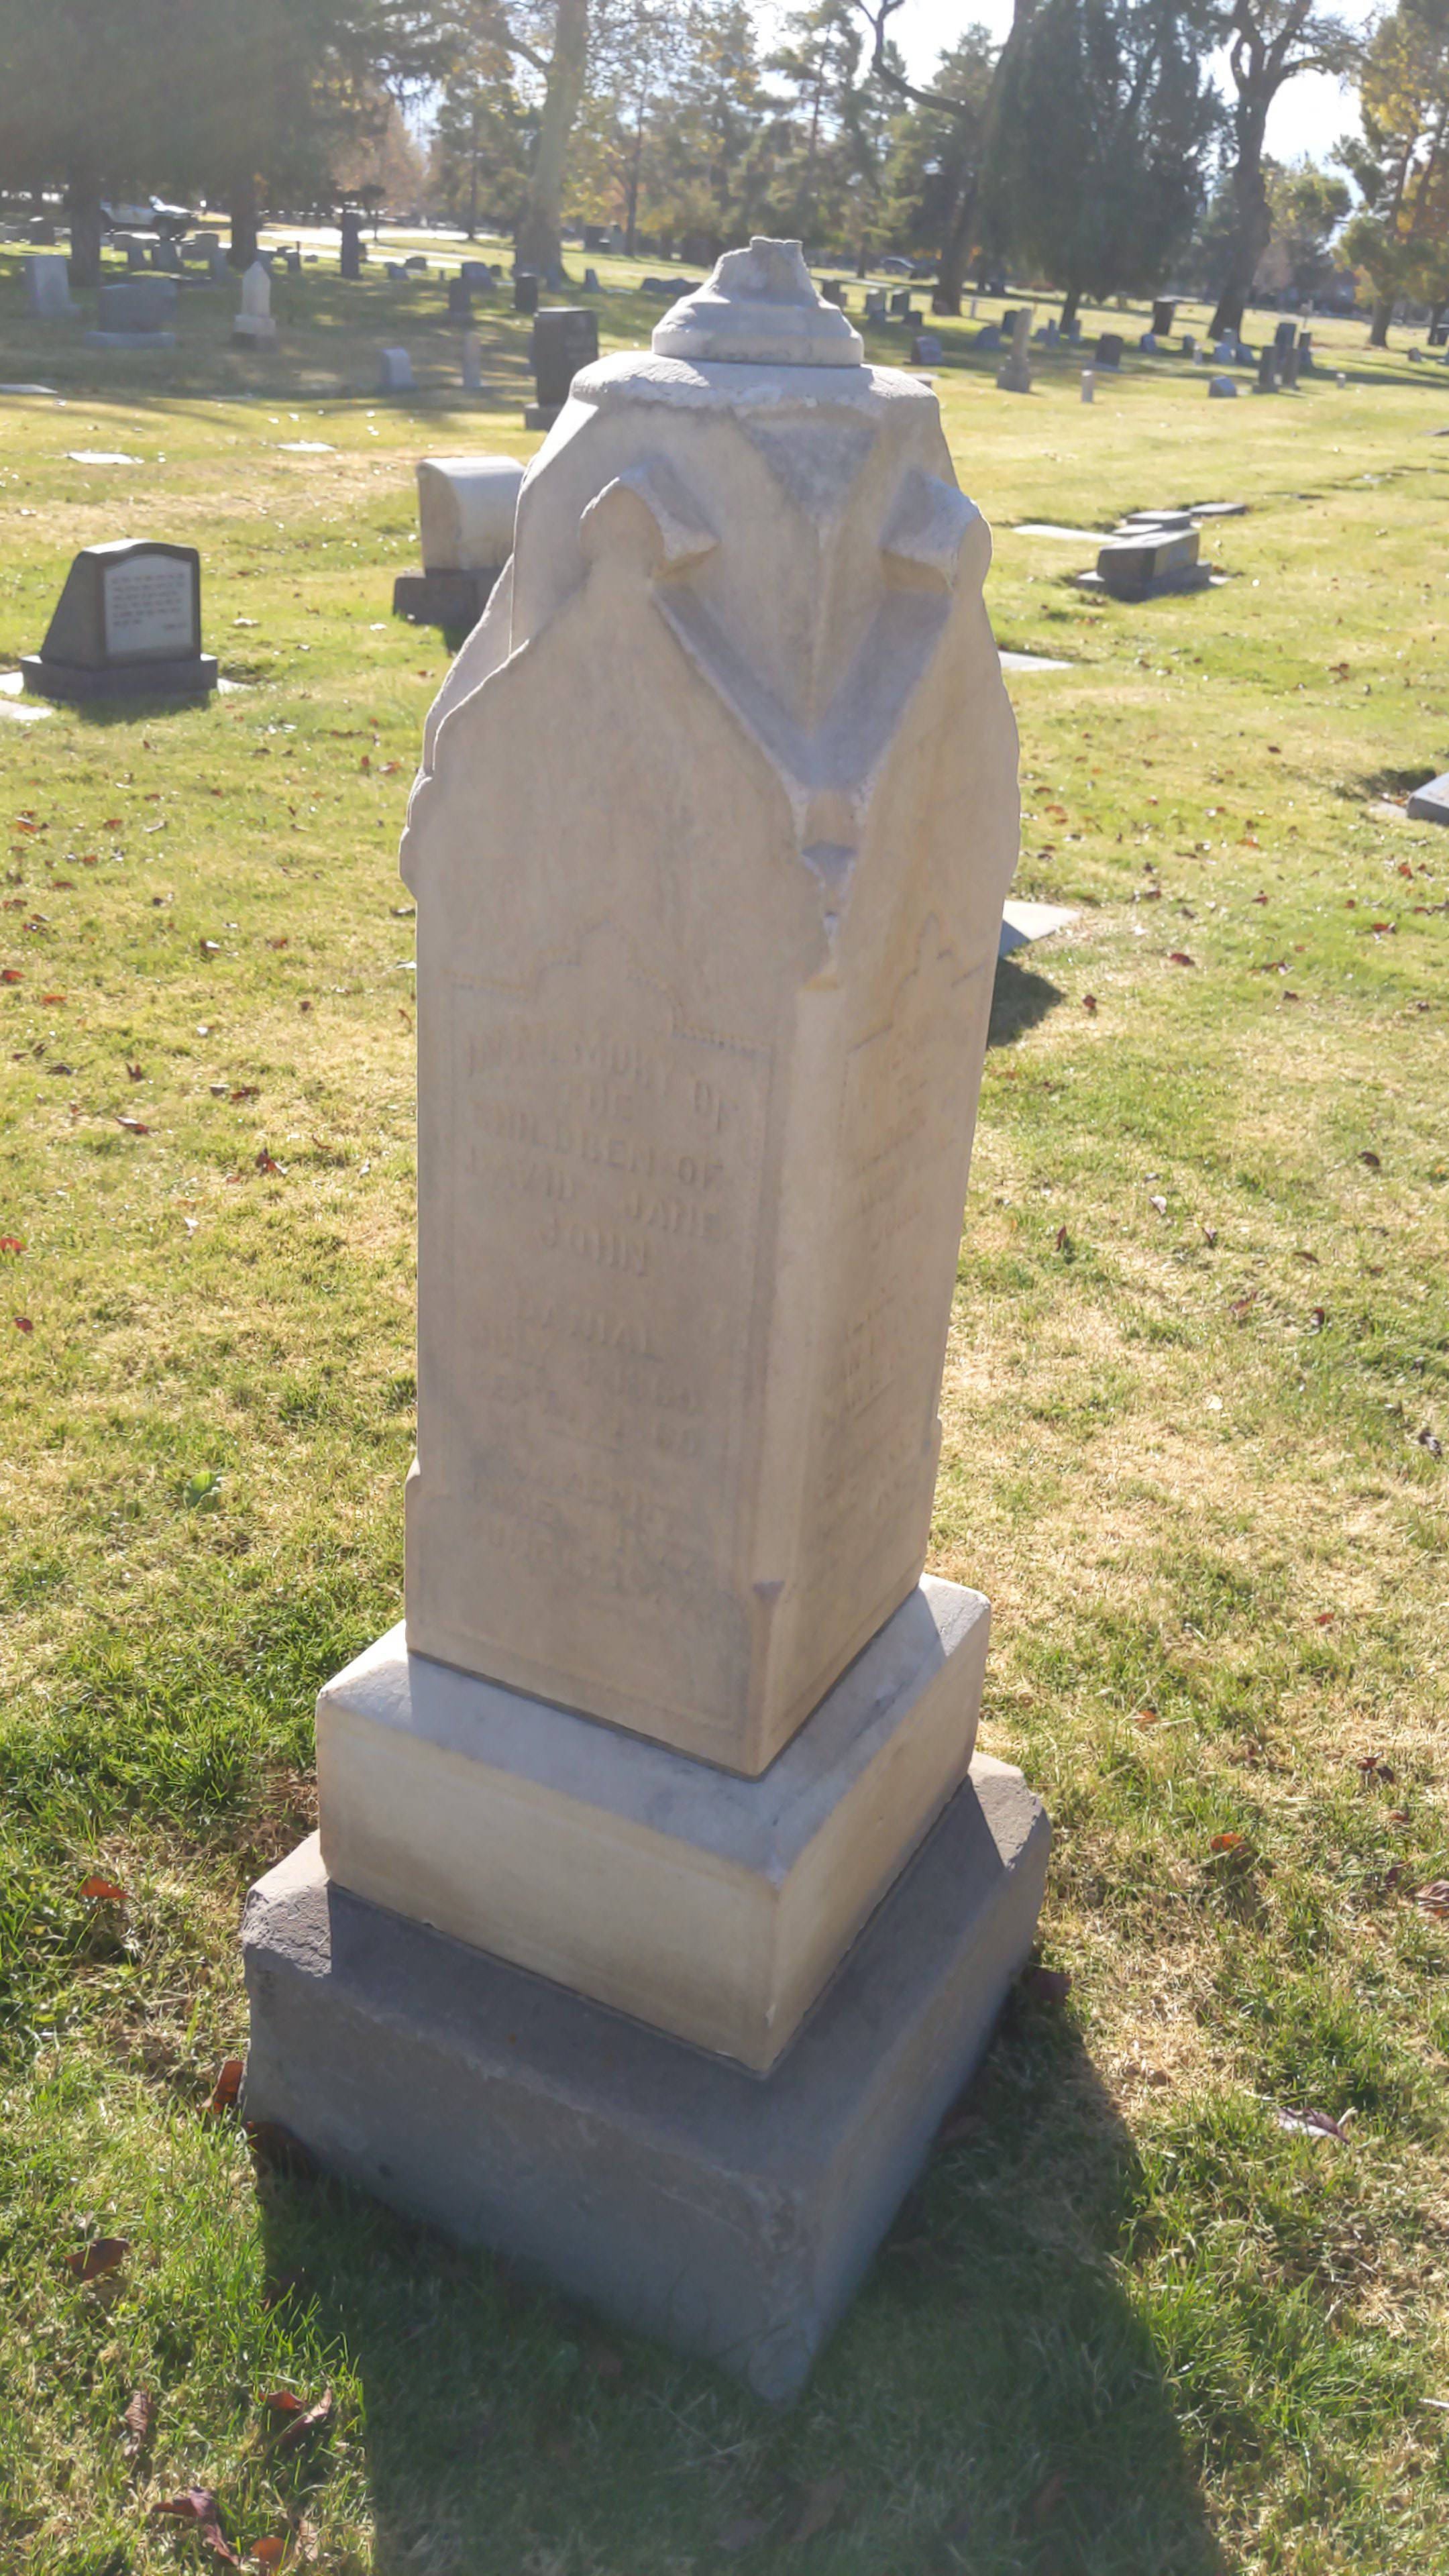obelisk: (313, 234, 989, 2074)
